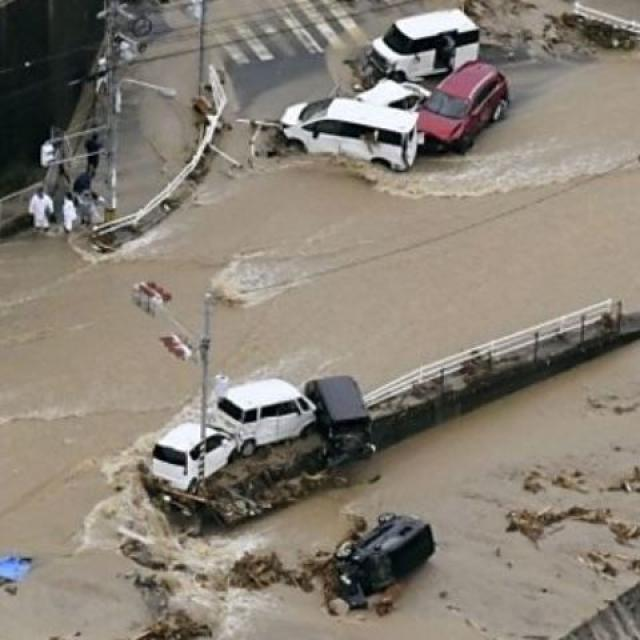flooded_areas: (7, 19, 624, 633)
